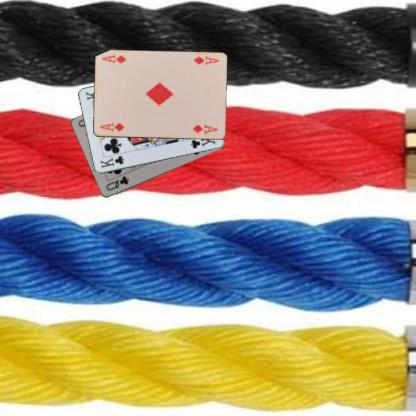Ad: (98, 120, 125, 134), (191, 54, 220, 66)
Kc: (98, 153, 125, 169)
Qc: (103, 174, 130, 192)
